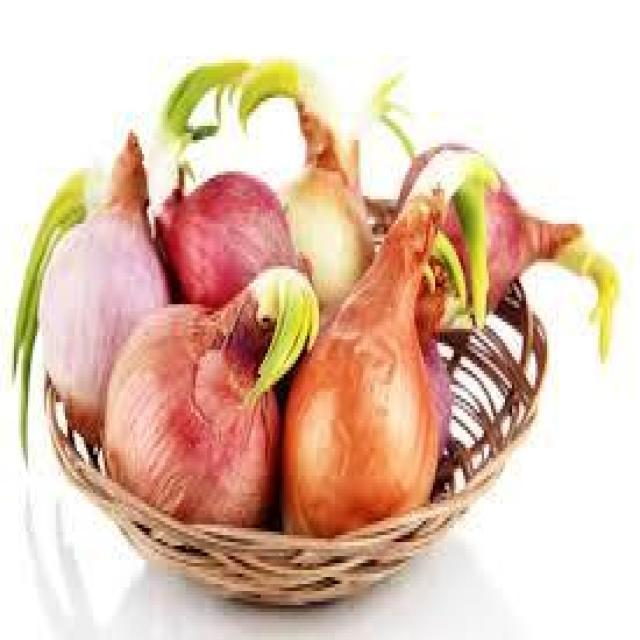Onion: (279, 194, 438, 537), (103, 285, 280, 526), (35, 129, 170, 441), (397, 145, 583, 317), (9, 166, 112, 464), (279, 100, 377, 330), (158, 170, 312, 316), (411, 147, 502, 332), (237, 262, 319, 402), (162, 56, 252, 164), (555, 226, 618, 362), (214, 59, 333, 126), (423, 229, 468, 313)
